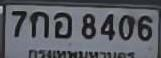0: (118, 14, 134, 40)
4: (100, 12, 114, 40)
6: (137, 14, 151, 40)
7: (11, 10, 26, 36)
8: (81, 12, 95, 38)
A01: (29, 10, 48, 37)
A43: (53, 11, 71, 38)
